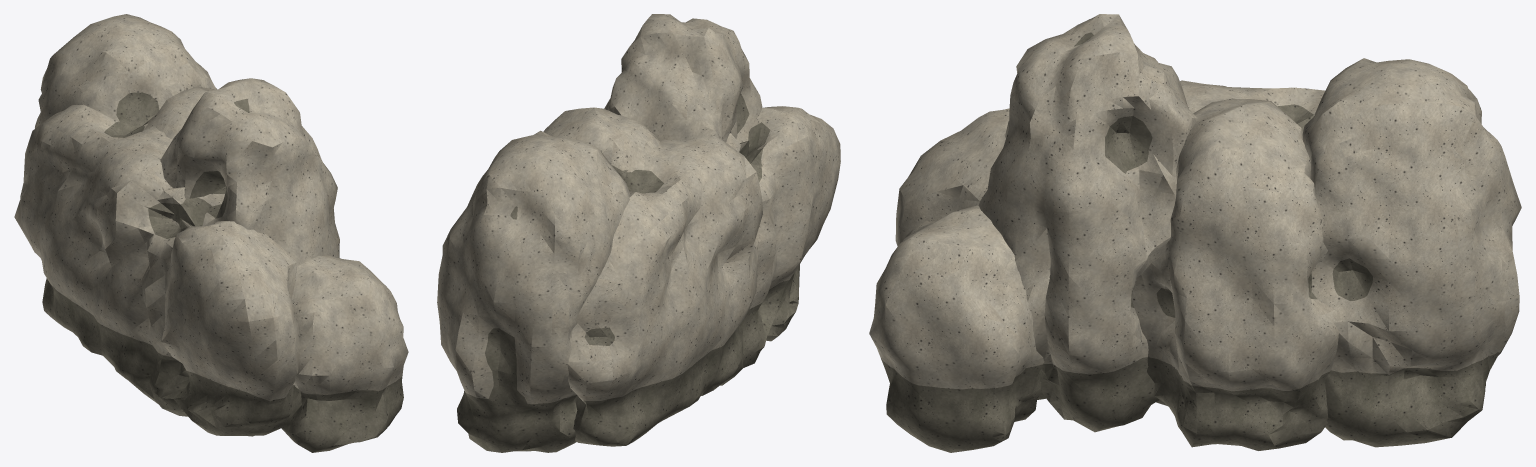
3 renders of one model, left to right at view 1: azimuth 30°, elevation 25°; view 2: azimuth 150°, elevation 25°; view 3: azimuth 270°, elevation 25°, orthographic. The views are drawn at different scales.
Parts seen in each view (by area): view 1: rock, rock_wet; view 2: rock, rock_wet; view 3: rock, rock_wet.
Part boxes in pixels (<box>): rock: <box>14,14,408,401</box>; rock_wet: <box>42,92,403,452</box>; rock: <box>437,14,840,404</box>; rock_wet: <box>457,29,799,452</box>; rock: <box>869,14,1521,391</box>; rock_wet: <box>881,32,1504,452</box>.
Size of the model in its own units: 7.2 by 10 by 14.97.
Materials: 2 (2 with a texture image).
